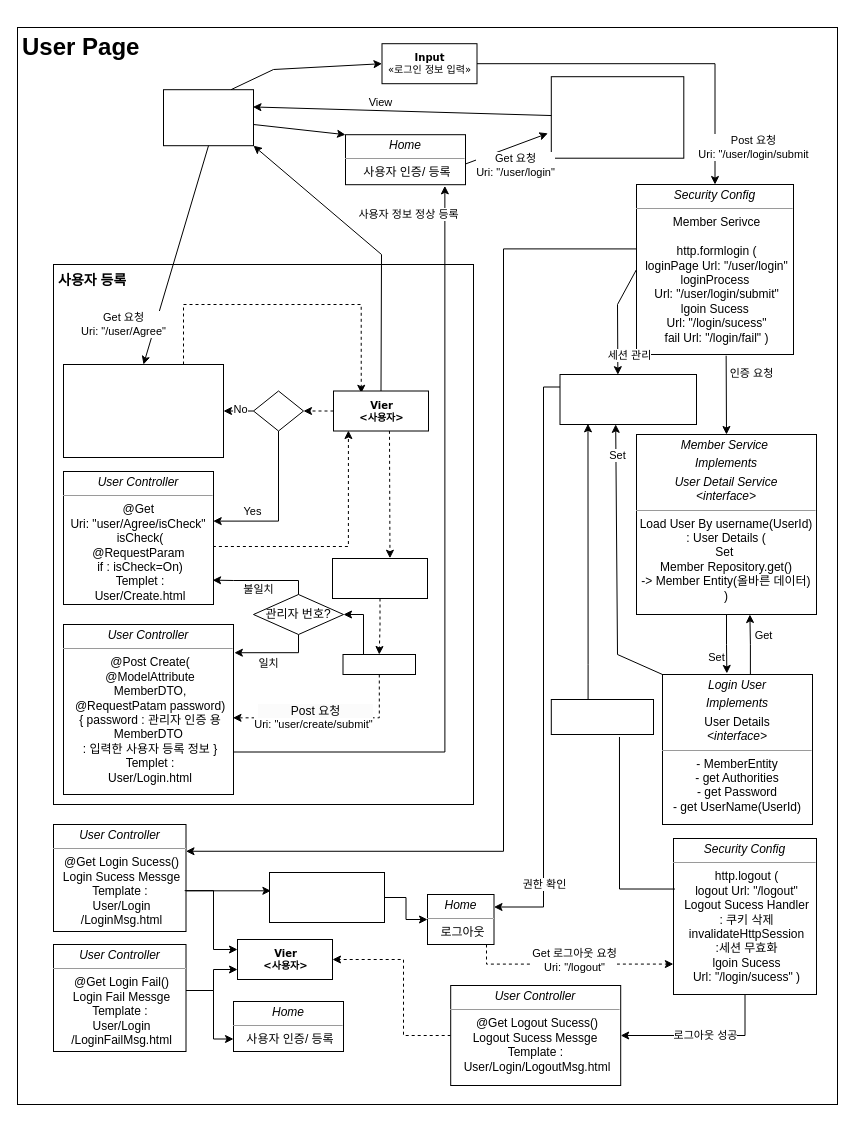
The diagram is 855 pixels wide and 1122 high, and some of its shapes have lost their labels. The shapes that lost their labels are listed below. From the top down, each one's centre as x and y in pixels, then its label:
At point 208,117: "사용자(User) <Client>".
At point 617,117: "User Controller @Get u serLogin() Template : User/User-login.html".
At point 143,411: "User Controller @Get Agree() (사용자 정보제공동의 화면) Templet : User/Agree.html".
At point 278,410: "동의?".
At point 627,399: "Session «인증된 User 권한 데이터»".
At point 380,578: "Input «사용자 정보 입력»".
At point 379,664: "유효성 검사".
At point 602,716: "Logout Handler Invalidate Session".
At point 326,897: "Home (로그인 성공)Home".
